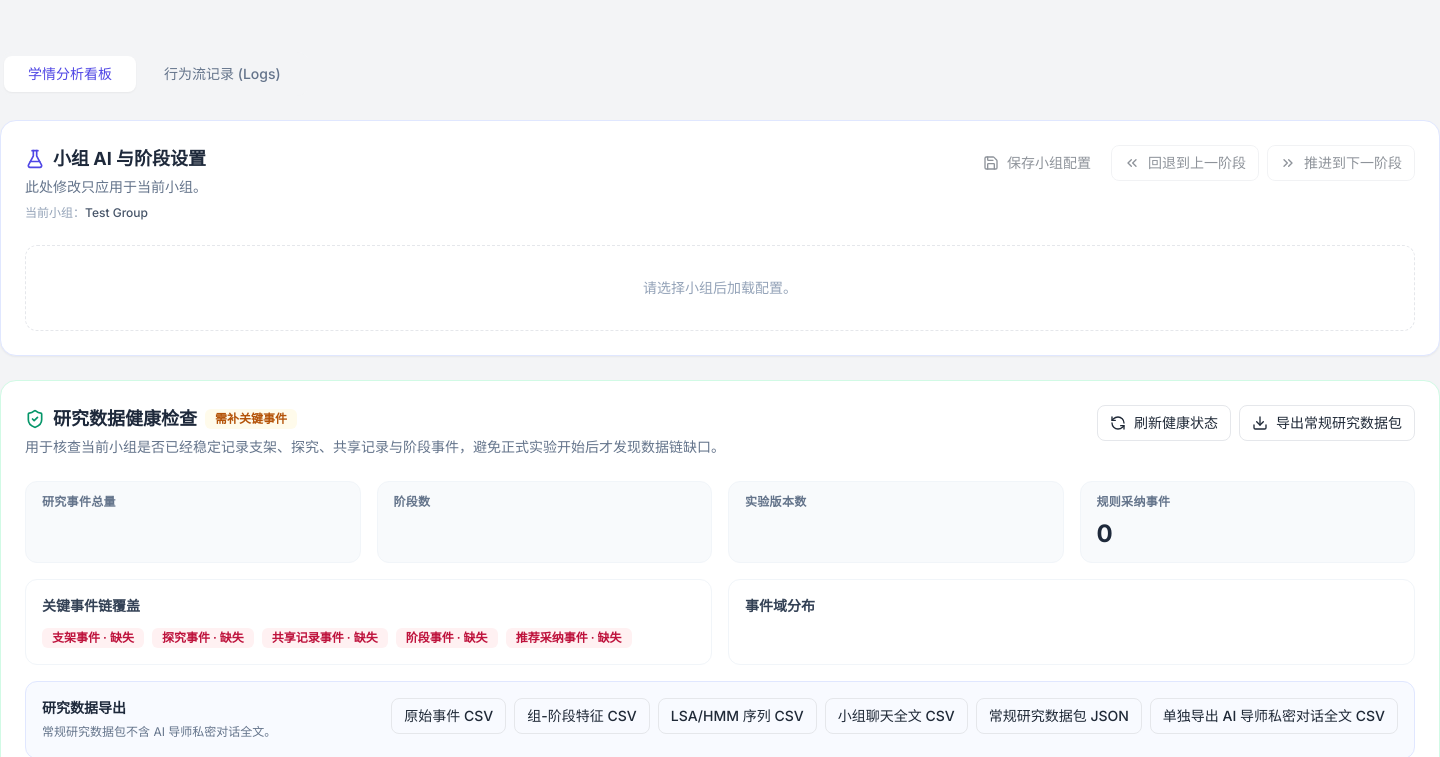
Test case: teacher research exports › excludes private tutor transcripts via 导出常规研究数据包
Click the button "导出常规研究数据包".
click(1327, 423)  # box [1239, 405, 1415, 441]
(page scrolled)
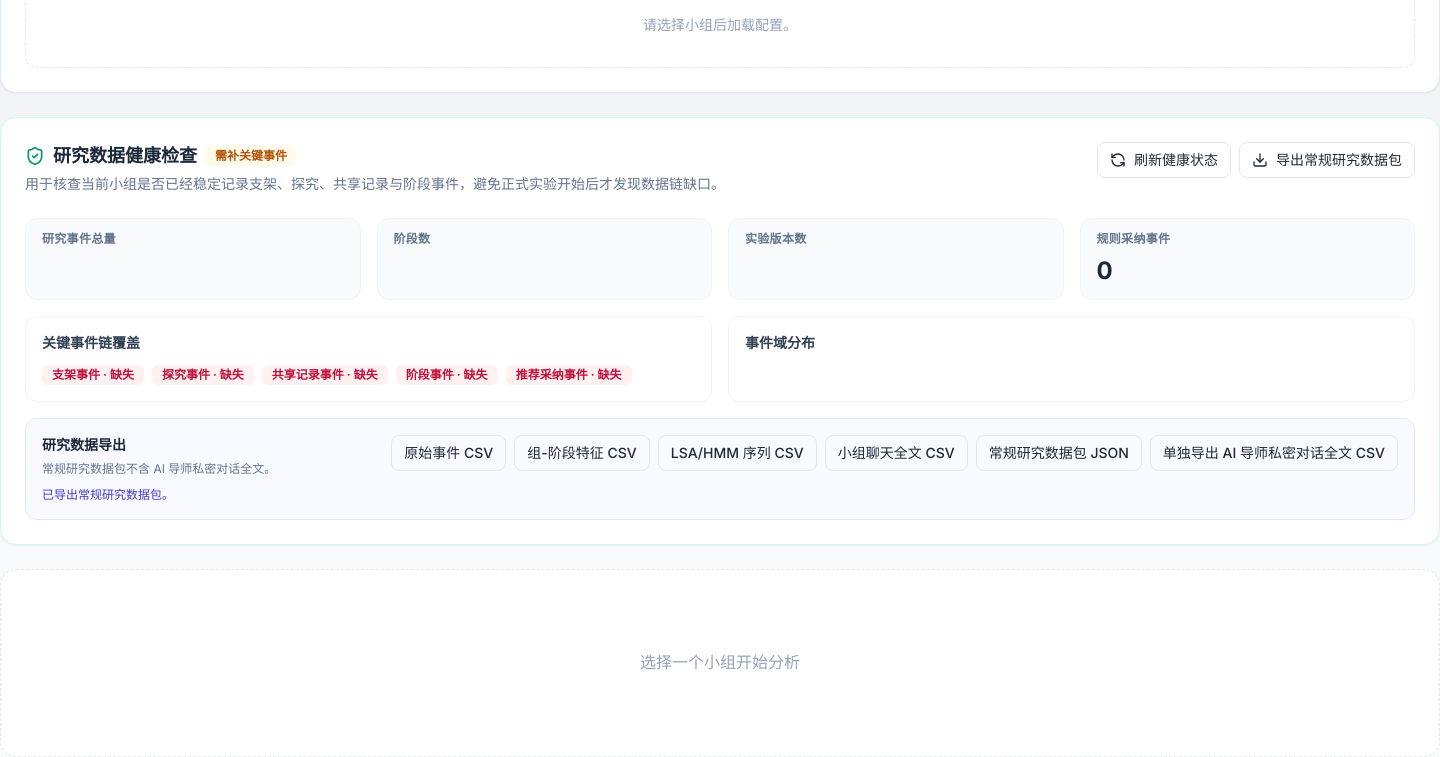
Expected: the text "已导出常规研究数据包。" is shown, [42, 487, 174, 502]
